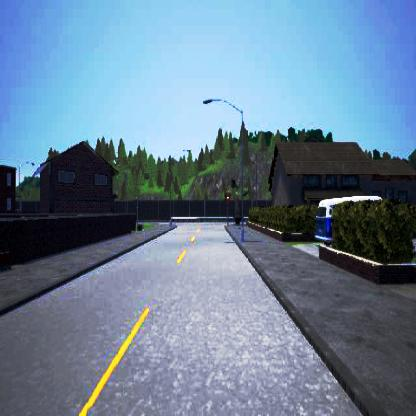vehicle: (314, 195, 382, 244)
